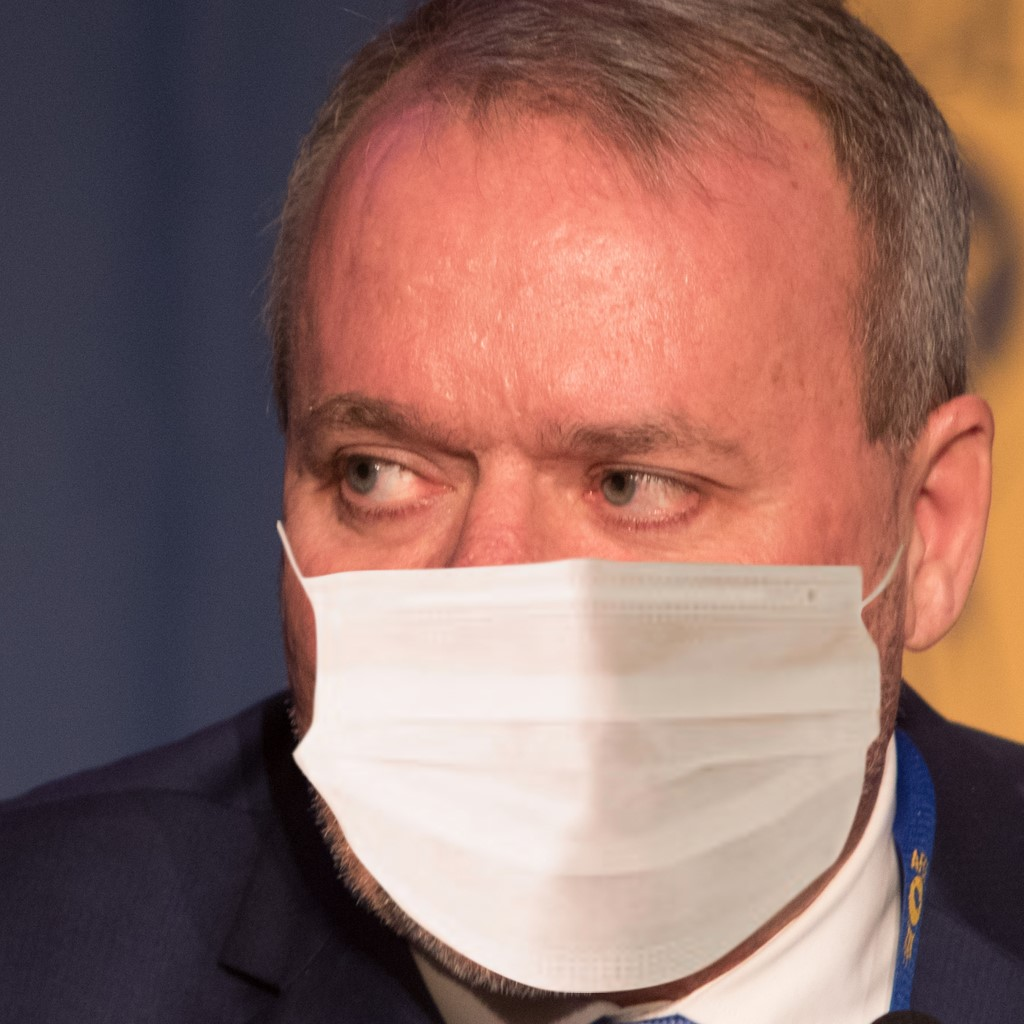con_mascara: (260, 42, 899, 976)
